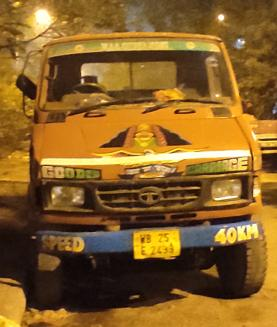Truck: (17, 26, 272, 307)
